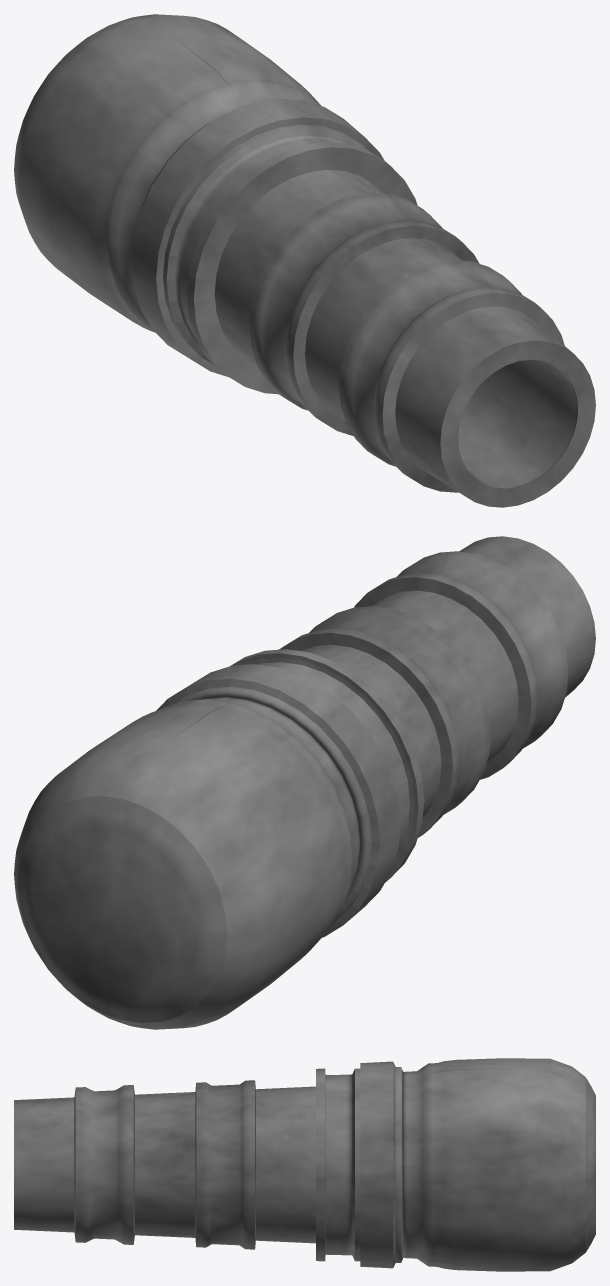
The model's file is CannonTextured.fbx.
3 renders of one model, top to bottom at view 1: azimuth 30°, elevation 25°; view 2: azimuth 150°, elevation 25°; view 3: azimuth 270°, elevation 25°, orthographic. The views are drawn at different scales.
Visible parts, largest first — view 1: Cylinder; view 2: Cylinder; view 3: Cylinder.
Boxes of the visible parts, left/top/right/bottom form: Cylinder: left=14, top=14, right=595, bottom=507; Cylinder: left=14, top=536, right=595, bottom=1029; Cylinder: left=14, top=1058, right=595, bottom=1271.
Bounding box in the file's own units: 329 × 329 × 897.
1 material, 1 textured.
